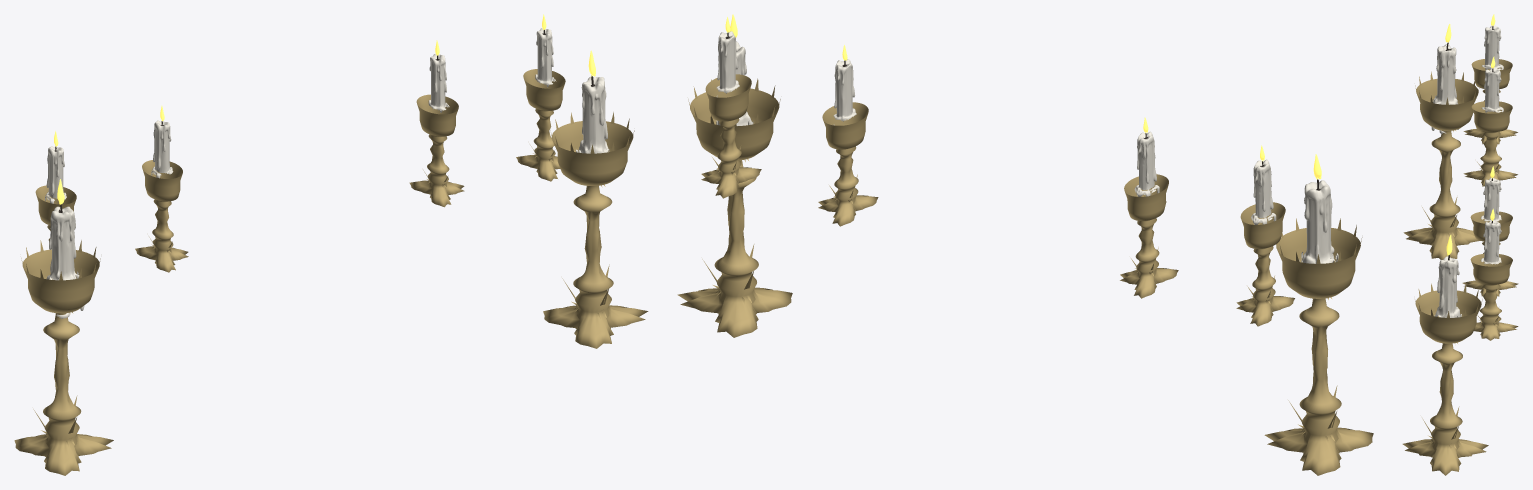
Rendered from altar-candles-runtime.glb.
3 views of the same model, side by side, from view 1: azimuth 30°, elevation 25°; view 2: azimuth 150°, elevation 25°; view 3: azimuth 270°, elevation 25° (orthographic). The views are drawn at different scales.
Parts seen in each view (by area): view 1: WEB_ALTAR_ACC_HYPER3D_LARGE_RIGHT_MASTER, WEB_ALTAR_ACC_HYPER3D_LARGE_LEFT_MASTER, WEB_ALTAR_ACC_HYPER3D_MEDIUM_RIGHT_ARCH3_MASTER, WEB_ALTAR_ACC_HYPER3D_MEDIUM_LEFT_ARCH3_MASTER, WEB_ALTAR_ACC_HYPER3D_MEDIUM_RIGHT_MASTER, WEB_ALTAR_ACC_HYPER3D_MEDIUM_LEFT_MASTER; view 2: WEB_ALTAR_ACC_HYPER3D_LARGE_LEFT_MASTER, WEB_ALTAR_ACC_HYPER3D_LARGE_RIGHT_MASTER, WEB_ALTAR_ACC_HYPER3D_MEDIUM_RIGHT_ARCH3_MASTER, WEB_ALTAR_ACC_HYPER3D_MEDIUM_RIGHT_MASTER, WEB_ALTAR_ACC_HYPER3D_MEDIUM_LEFT_ARCH3_MASTER, WEB_ALTAR_ACC_HYPER3D_MEDIUM_LEFT_MASTER; view 3: WEB_ALTAR_ACC_HYPER3D_LARGE_RIGHT_MASTER, WEB_ALTAR_ACC_HYPER3D_LARGE_LEFT_MASTER, WEB_ALTAR_ACC_HYPER3D_MEDIUM_RIGHT_MASTER, WEB_ALTAR_ACC_HYPER3D_MEDIUM_LEFT_ARCH3_MASTER, WEB_ALTAR_ACC_HYPER3D_MEDIUM_RIGHT_ARCH3_MASTER, WEB_ALTAR_ACC_HYPER3D_MEDIUM_LEFT_MASTER.
Part boxes in pixels (left/top/right/bottom): WEB_ALTAR_ACC_HYPER3D_LARGE_RIGHT_MASTER: left=543, top=50, right=648, bottom=348; WEB_ALTAR_ACC_HYPER3D_LARGE_LEFT_MASTER: left=14, top=179, right=113, bottom=475; WEB_ALTAR_ACC_HYPER3D_MEDIUM_RIGHT_ARCH3_MASTER: left=409, top=40, right=464, bottom=207; WEB_ALTAR_ACC_HYPER3D_MEDIUM_LEFT_ARCH3_MASTER: left=135, top=105, right=188, bottom=272; WEB_ALTAR_ACC_HYPER3D_MEDIUM_RIGHT_MASTER: left=516, top=14, right=565, bottom=181; WEB_ALTAR_ACC_HYPER3D_MEDIUM_LEFT_MASTER: left=35, top=131, right=76, bottom=241; WEB_ALTAR_ACC_HYPER3D_LARGE_LEFT_MASTER: left=1264, top=154, right=1373, bottom=475; WEB_ALTAR_ACC_HYPER3D_LARGE_RIGHT_MASTER: left=677, top=14, right=792, bottom=337; WEB_ALTAR_ACC_HYPER3D_MEDIUM_RIGHT_ARCH3_MASTER: left=818, top=45, right=878, bottom=226; WEB_ALTAR_ACC_HYPER3D_MEDIUM_RIGHT_MASTER: left=701, top=17, right=761, bottom=198; WEB_ALTAR_ACC_HYPER3D_MEDIUM_LEFT_ARCH3_MASTER: left=1120, top=117, right=1178, bottom=298; WEB_ALTAR_ACC_HYPER3D_MEDIUM_LEFT_MASTER: left=1236, top=145, right=1294, bottom=326; WEB_ALTAR_ACC_HYPER3D_LARGE_RIGHT_MASTER: left=1402, top=235, right=1488, bottom=475; WEB_ALTAR_ACC_HYPER3D_LARGE_LEFT_MASTER: left=1403, top=24, right=1480, bottom=259; WEB_ALTAR_ACC_HYPER3D_MEDIUM_RIGHT_MASTER: left=1470, top=208, right=1518, bottom=340; WEB_ALTAR_ACC_HYPER3D_MEDIUM_LEFT_ARCH3_MASTER: left=1463, top=56, right=1517, bottom=186; WEB_ALTAR_ACC_HYPER3D_MEDIUM_RIGHT_ARCH3_MASTER: left=1462, top=166, right=1518, bottom=296; WEB_ALTAR_ACC_HYPER3D_MEDIUM_LEFT_MASTER: left=1463, top=14, right=1517, bottom=144.
Bounding box in the file's own units: 8.72 × 4.02 × 1.75.
